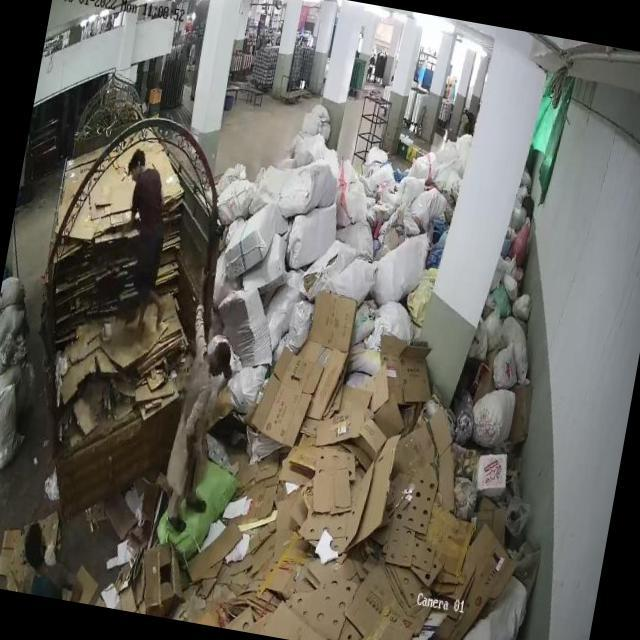person: (102, 148, 190, 320), (160, 332, 230, 538), (12, 530, 78, 600)
